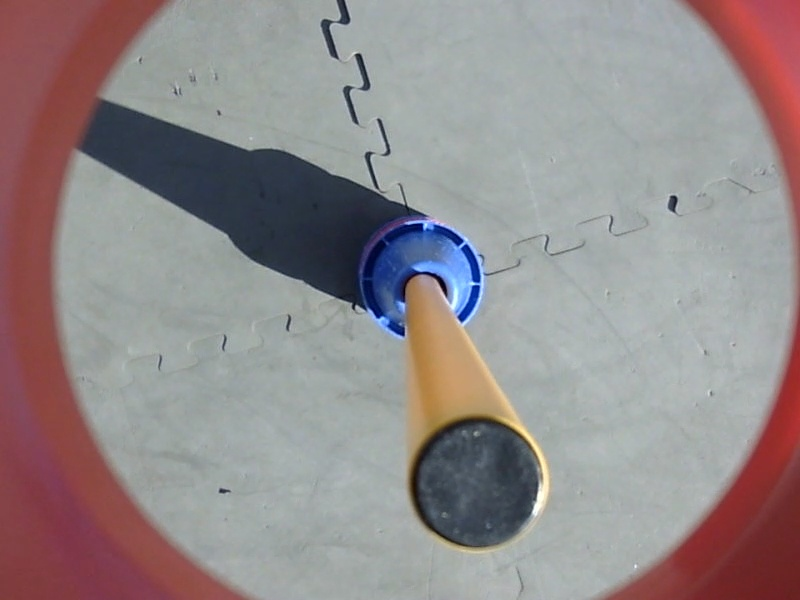tip: (402, 409, 557, 559)
